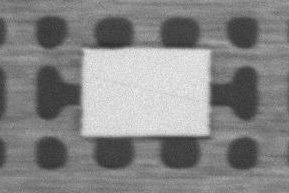DIE_CRACK: (139, 51, 289, 67)
